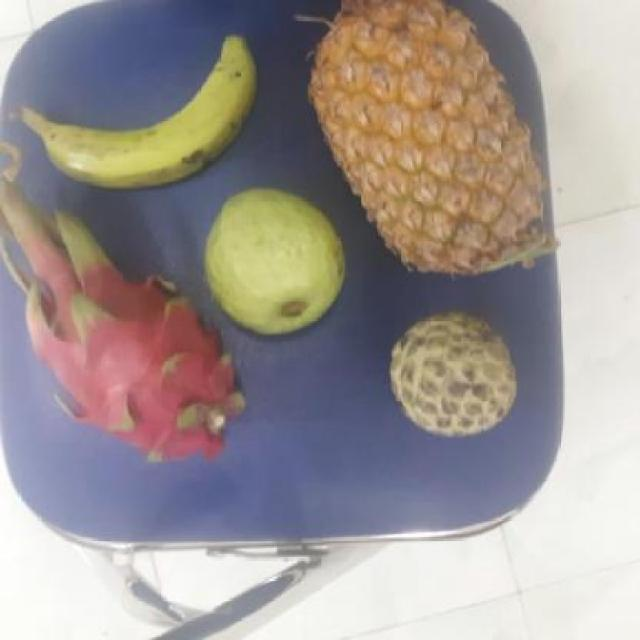banana: (42, 31, 262, 191)
dragon fruit: (28, 274, 240, 466)
guava: (196, 191, 347, 337)
pineapple: (302, 0, 546, 272)
sugar apple: (385, 314, 520, 438)
